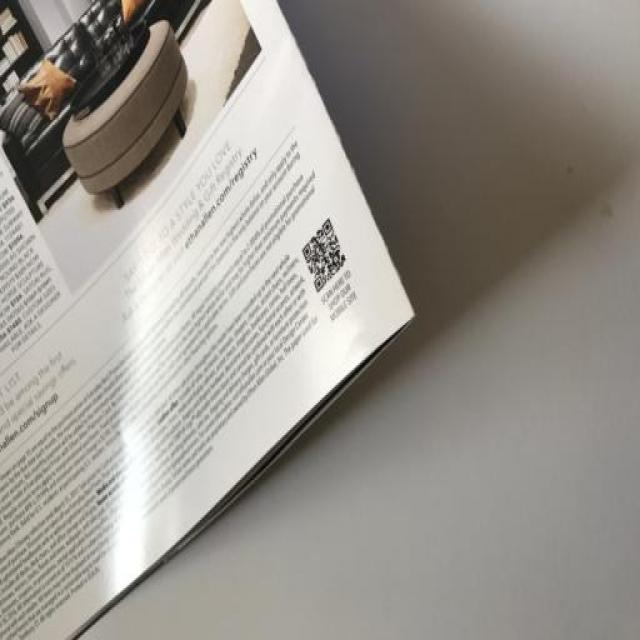paper: (1, 1, 451, 624)
